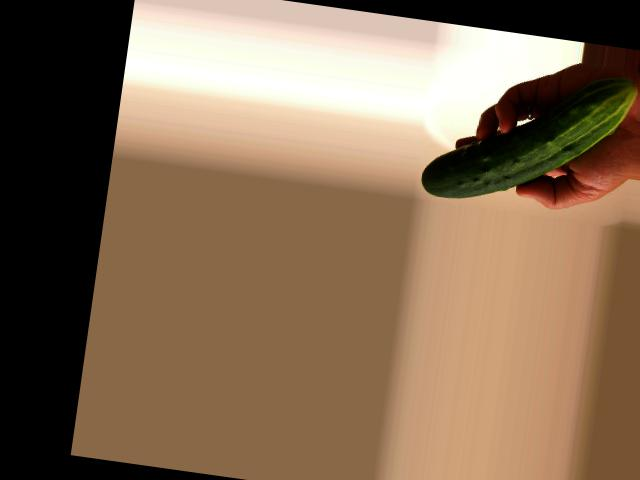cucumber: (419, 51, 638, 220)
